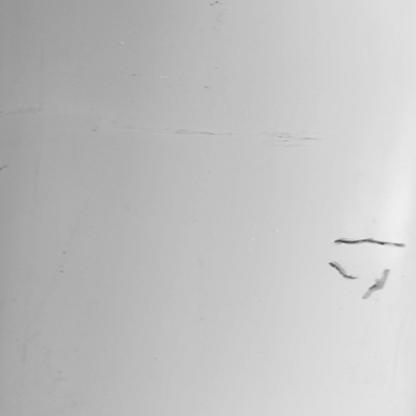fengxi: (332, 236, 406, 248), (365, 269, 387, 297), (331, 264, 357, 279)
